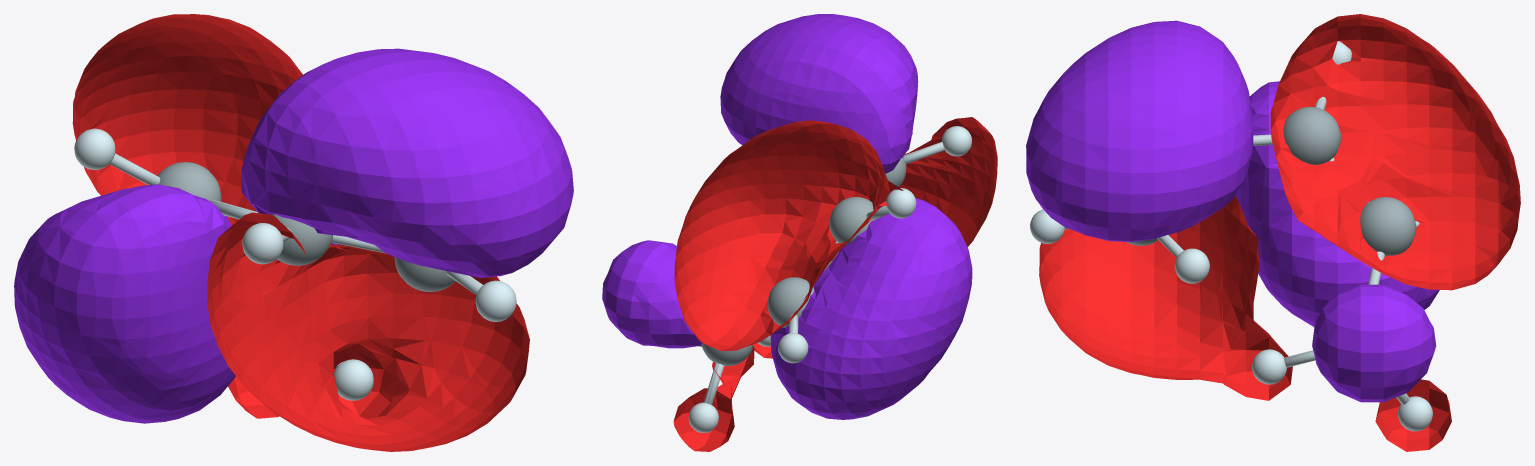
The picture shows the model from 3 angles, left to right: view 1: azimuth 30°, elevation 25°; view 2: azimuth 150°, elevation 25°; view 3: azimuth 270°, elevation 25°; orthographic projection. The views are drawn at different scales.
Visible parts, largest first — view 1: Renderer Node; view 2: Renderer Node; view 3: Renderer Node.
Part boxes in pixels (x1,y1,x2,y2): Renderer Node: (14, 14, 573, 451); Renderer Node: (602, 14, 997, 451); Renderer Node: (1026, 14, 1520, 451).
Bounding box in the file's own units: 4.92 × 5.02 × 5.62.
